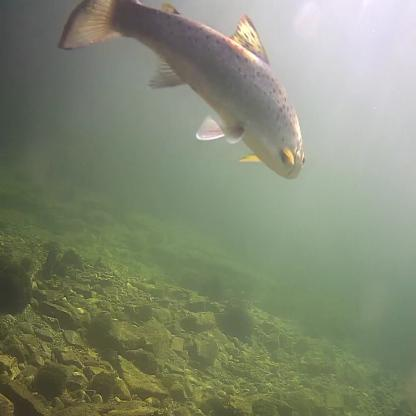salmon: (57, 0, 308, 182)
